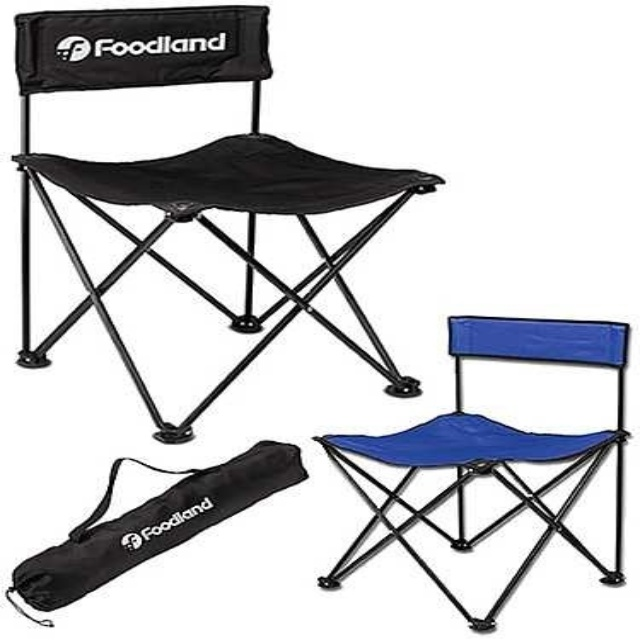obstacle: (15, 5, 442, 442), (314, 316, 626, 630)
